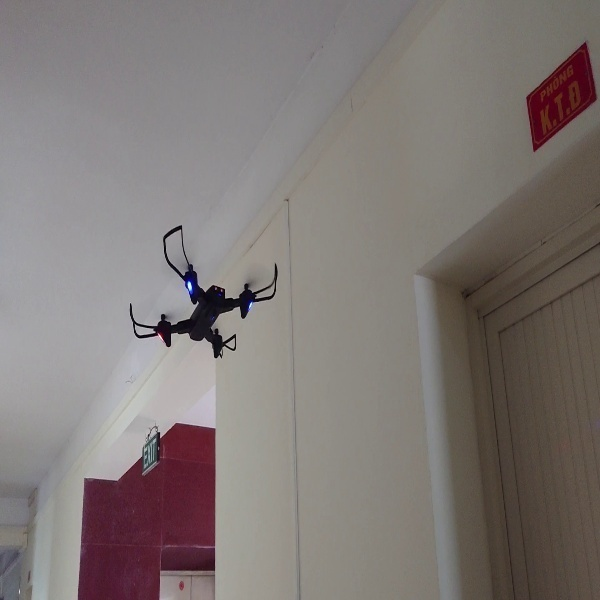drone: (124, 220, 279, 361)
